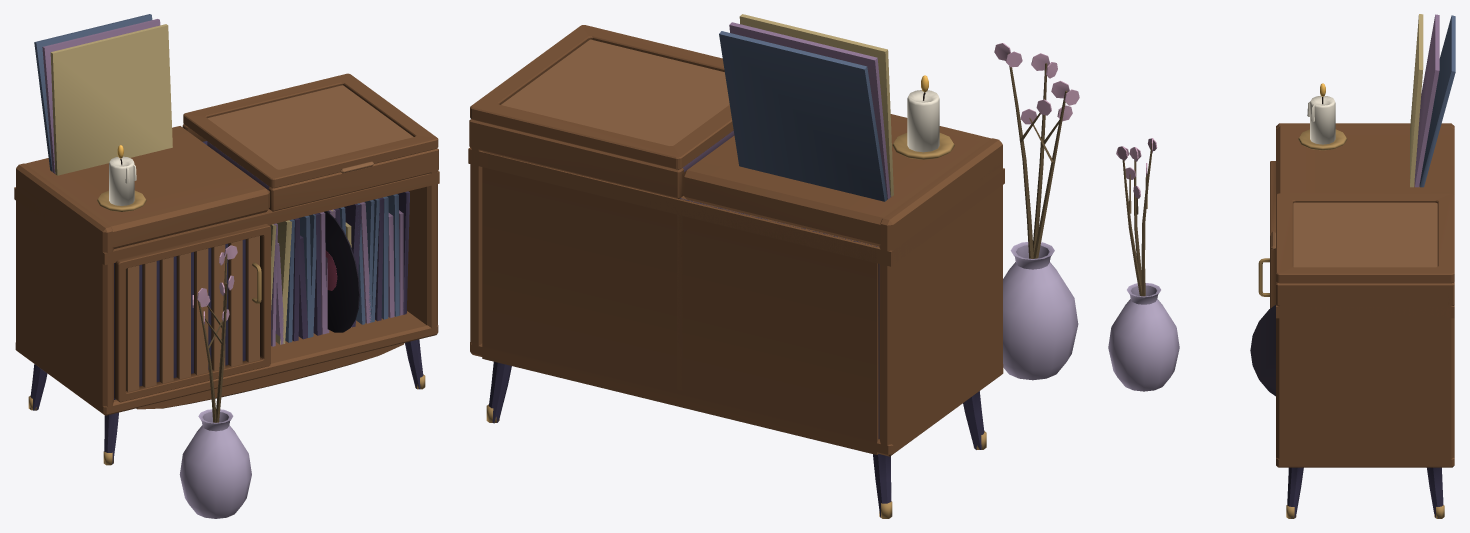
Rendered from recordCabinet.glb.
3 views of the same model, side by side, from view 1: azimuth 30°, elevation 25°; view 2: azimuth 150°, elevation 25°; view 3: azimuth 270°, elevation 25° (orthographic). The views are drawn at different scales.
Visible parts, largest first — view 1: body, lid; view 2: body, lid; view 3: body, lid.
Part boxes in pixels (box(x1,y1,x2,y2)): body: box(14, 14, 439, 518); lid: box(183, 73, 438, 188); body: box(468, 14, 1079, 518); lid: box(470, 25, 733, 169); body: box(1108, 14, 1455, 518); lid: box(1271, 193, 1454, 283).
Bounding box in the file's own units: 0.9 × 0.9268 × 0.8163.
